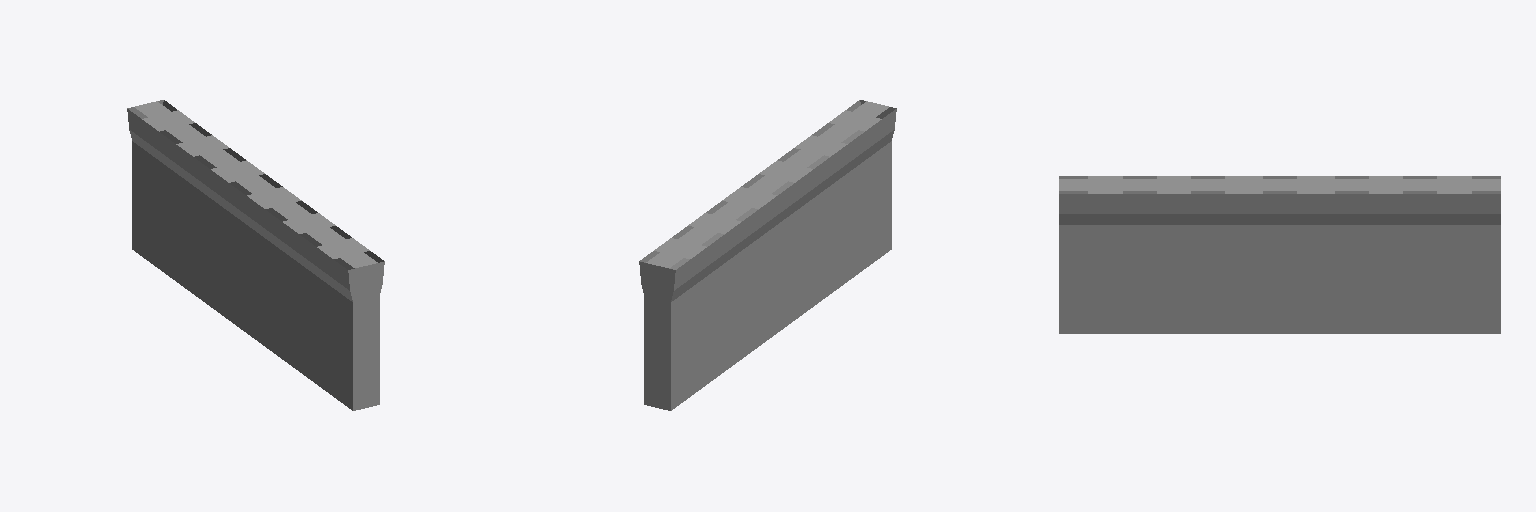
Rendered from Wall.obj.
3 views of the same model, side by side, from view 1: azimuth 30°, elevation 25°; view 2: azimuth 150°, elevation 25°; view 3: azimuth 270°, elevation 25° (orthographic).
Parts seen in each view (by area): view 1: Wall_pCube1; view 2: Wall_pCube1; view 3: Wall_pCube1.
Boxes of the visible parts, x1,y1,x2,y2 form: Wall_pCube1: [127, 100, 384, 410]; Wall_pCube1: [639, 100, 896, 410]; Wall_pCube1: [1059, 176, 1500, 333].
Size of the model in its own units: 2.08 by 7.71 by 21.72.